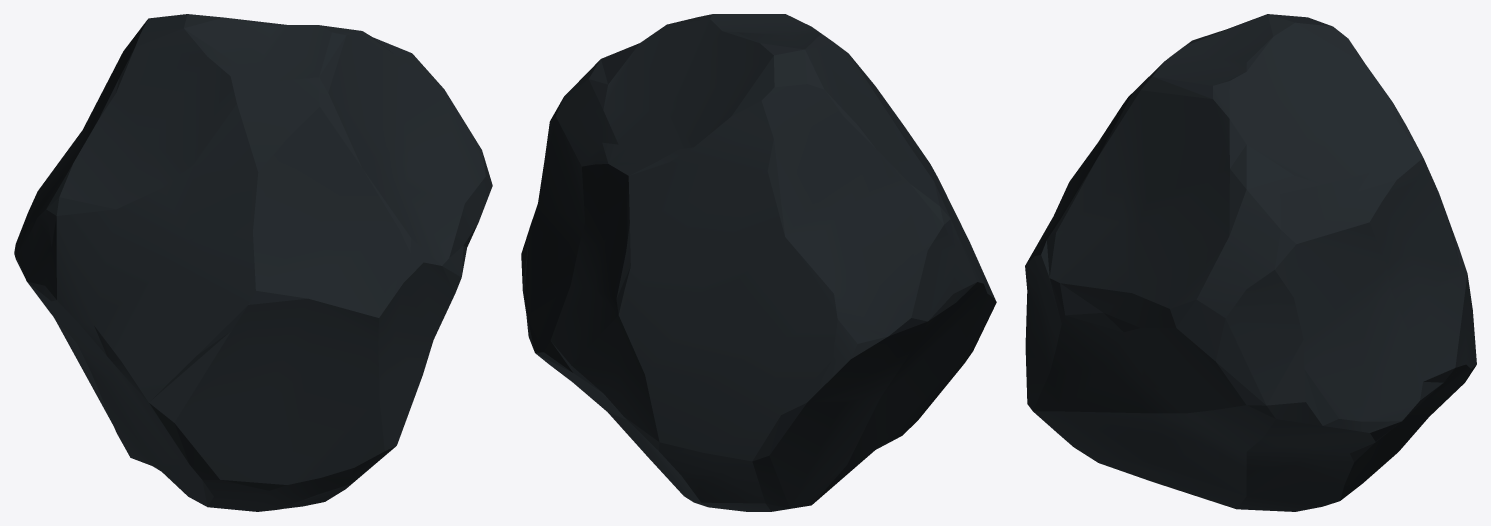
The model's file is Asteroid_m_04.FBX.
3 renders of one model, left to right at view 1: azimuth 30°, elevation 25°; view 2: azimuth 150°, elevation 25°; view 3: azimuth 270°, elevation 25°, orthographic.
Parts seen in each view (by area): view 1: Asteroid_m_04; view 2: Asteroid_m_04; view 3: Asteroid_m_04.
Boxes of the visible parts, left/top/right/bottom form: Asteroid_m_04: left=14, top=14, right=492, bottom=511; Asteroid_m_04: left=521, top=14, right=996, bottom=511; Asteroid_m_04: left=1025, top=14, right=1476, bottom=511.
Size of the model in its own units: 940 by 973 by 870.
